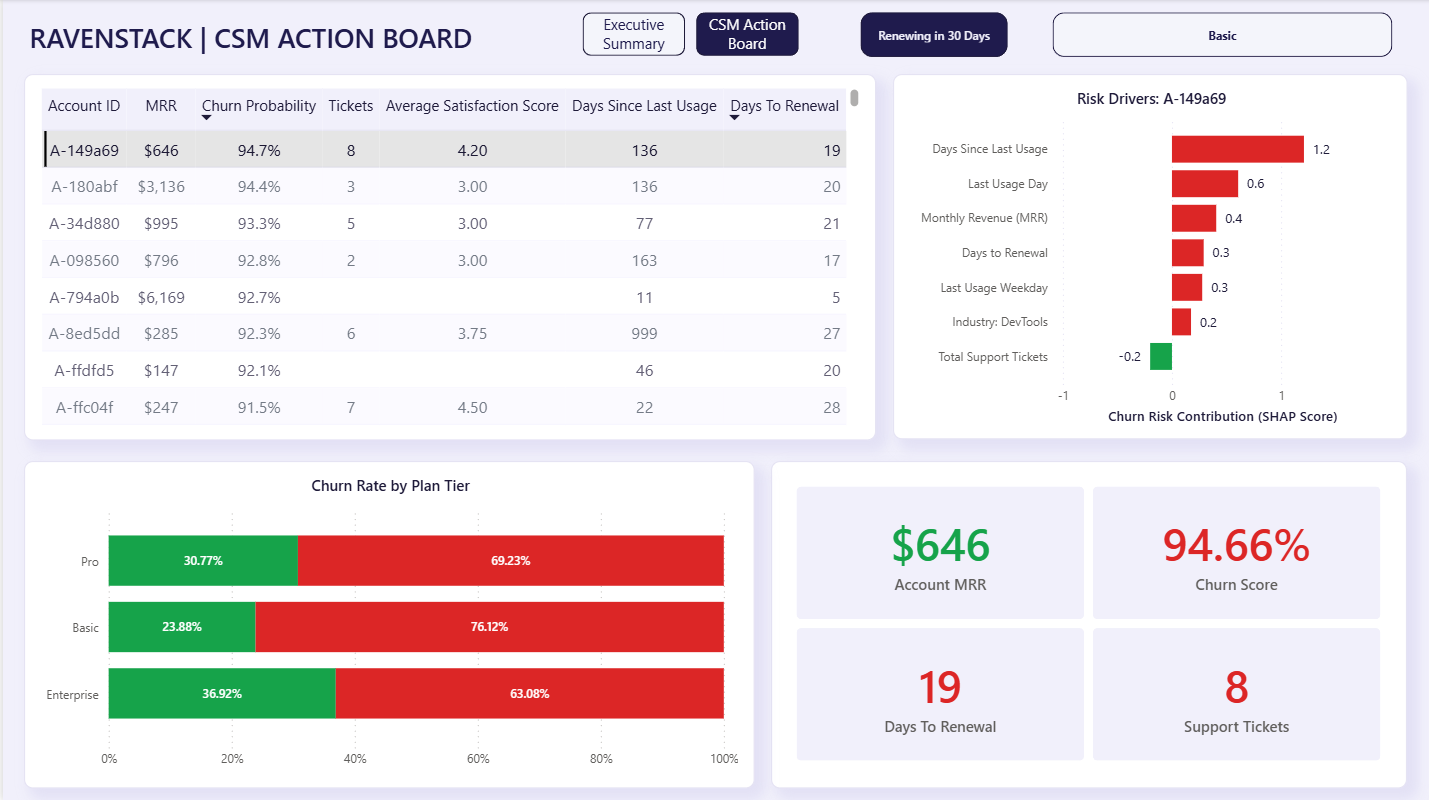

The page's visual inventory and layout, read from the dashboard file:
{"tool":"powerbi","page":{"name":"CSM Action Board","canvas":[1280,720],"ordinal":1},"visuals":[{"type":"tableEx","fields":{"Values":["churn_feature_matrix.account_id","churn_feature_matrix.mrr","churn_scores.churn_probability","churn_feature_matrix.total_tickets","churn_feature_matrix.avg_satisfaction_score","churn_feature_matrix.days_since_last_usage","churn_feature_matrix.days_to_renewal"]},"box":[18.9,67.3,764.9,328.6],"z":0},{"type":"clusteredBarChart","fields":{"Category":["shap_explanations.feature_display_name"],"Y":["churn_feature_matrix.SHAP Value Filtered"]},"box":[799,67.3,462.3,327.7],"z":1000},{"type":"textbox","box":[9.5,6.6,528.5,60.7],"z":2000},{"type":"cardVisual","fields":{"Data":["churn_feature_matrix.Snapshot - MRR","churn_feature_matrix.Snapshot - Churn Probability","churn_feature_matrix.Snapshot - Days Inactive","churn_feature_matrix.Snapshot - Support Tickets"]},"box":[689.5,414.8,571,293.6],"z":3000},{"type":"hundredPercentStackedBarChart","title":"Churn Rate by Plan Tier","fields":{"Category":["churn_feature_matrix.plan_tier"],"Y":["CountNonNull(churn_feature_matrix.account_id)"],"Series":["churn_feature_matrix.churn_label"]},"box":[18.9,414.8,656.3,293.6],"z":4000},{"type":"pageNavigator","box":[506.3,0,223.5,63.7],"z":5000},{"type":"advancedSlicerVisual","fields":{"Values":["churn_feature_matrix.plan_tier"]},"box":[928.3,0,333.1,64.6],"z":6000},{"type":"advancedSlicerVisual","fields":{"Values":["churn_feature_matrix.renewal_urgency"]},"box":[755.9,0,160.7,64.6],"z":7000}]}

Visuals, with their boxes in screenshot pixels (x1, y1, x2, y2), scaled from the page's 1280x720 canvas onto the 1429x800 screenshot:
tableEx - churn_feature_matrix.account_id x churn_feature_matrix.mrr: l=21, t=75, r=875, b=440
clusteredBarChart - shap_explanations.feature_display_name x churn_feature_matrix.SHAP Value Filtered: l=892, t=75, r=1408, b=439
textbox: l=11, t=7, r=601, b=75
cardVisual - churn_feature_matrix.Snapshot - MRR x churn_feature_matrix.Snapshot - Churn Probability: l=770, t=461, r=1407, b=787
"Churn Rate by Plan Tier" hundredPercentStackedBarChart: l=21, t=461, r=754, b=787
pageNavigator: l=565, t=0, r=815, b=71
advancedSlicerVisual - churn_feature_matrix.plan_tier: l=1036, t=0, r=1408, b=72
advancedSlicerVisual - churn_feature_matrix.renewal_urgency: l=844, t=0, r=1023, b=72
